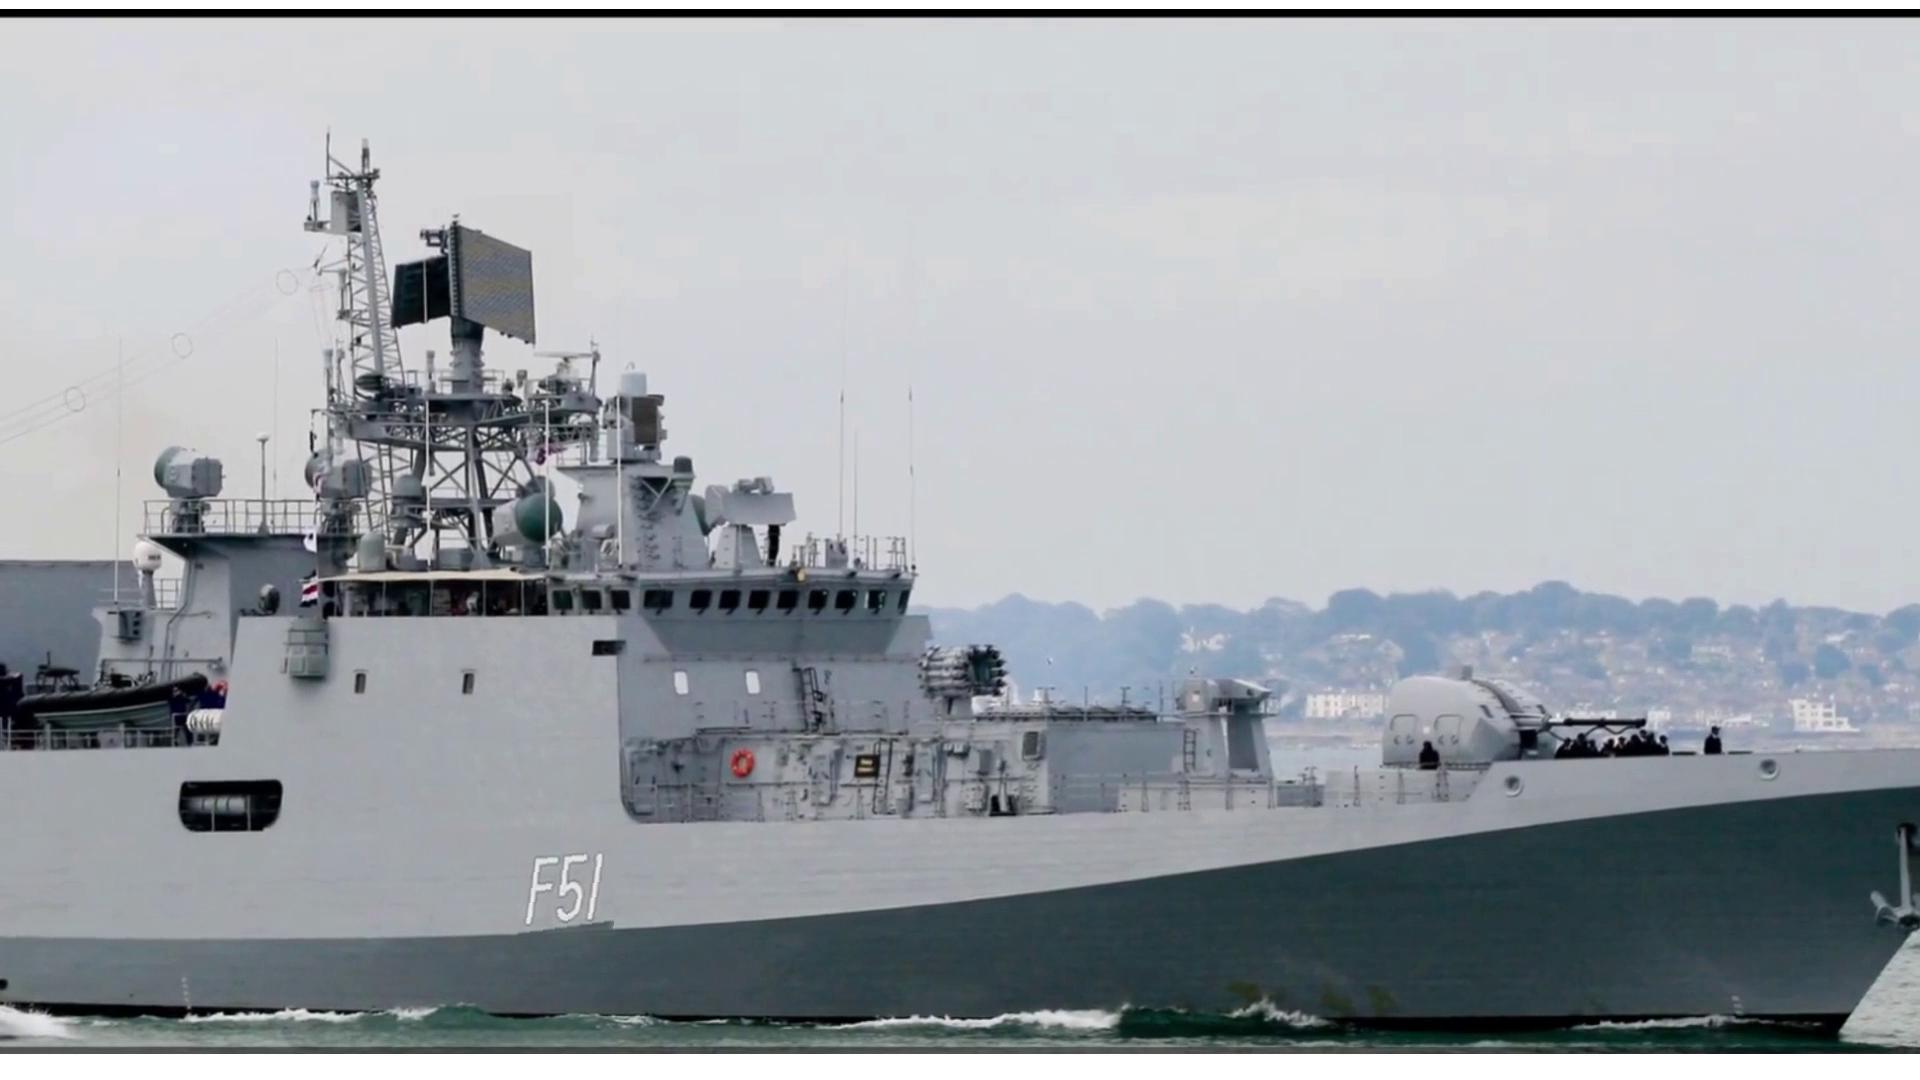OCR: (517, 851, 618, 940)
